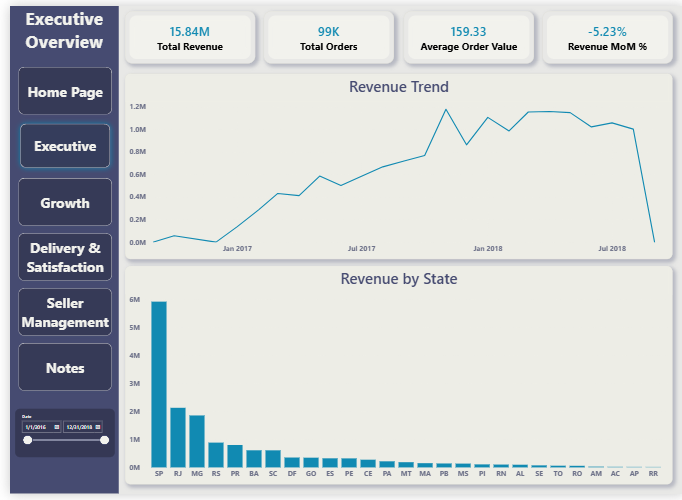

This screenshot's page, from the dashboard's own definition file:
{"tool":"powerbi","page":{"name":"Executive Overview","canvas":[1800,1300],"ordinal":1},"visuals":[{"type":"shape","title":"Executive Overview","box":[0,0,290,1300],"z":0},{"type":"cardVisual","fields":{"Data":["Measure Table.Total Revenue"]},"box":[307.5,12.5,347.2,140],"z":0,"group":"g1"},{"type":"group","id":"g1","title":"KPIs","box":[307.5,12.5,1460,140],"z":1000},{"type":"cardVisual","fields":{"Data":["Measure Table.Total Orders"]},"box":[678.7,12.5,347.2,140],"z":1000,"group":"g1"},{"type":"cardVisual","fields":{"Data":["Measure Table.Average Order Value"]},"box":[1049.9,12.5,347.2,140],"z":2000,"group":"g1"},{"type":"lineChart","title":"Revenue Trend ","fields":{"Category":["Date.Year-Month2","Date.Quarter"],"Y":["Measure Table.Total Revenue"]},"box":[307.5,180,1460,495],"z":2000},{"type":"cardVisual","fields":{"Data":["Measure Table.Revenue MoM %"]},"box":[1421.1,12.5,347.2,140],"z":3000,"group":"g1"},{"type":"clusteredColumnChart","title":"Revenue by State ","fields":{"Category":["customers.customer_state"],"Y":["Measure Table.Total Revenue"]},"box":[307.5,692.5,1460,582.5],"z":3000},{"type":"actionButton","title":"Home Page","box":[12.5,890,267,145],"z":3000,"group":"g2"},{"type":"actionButton","title":"Home Page","box":[12,152,267.5,145],"z":4000,"group":"g2"},{"type":"actionButton","title":"Home Page","box":[12,299.6,267.5,145],"z":5000,"group":"g2"},{"type":"slicer","fields":{"Values":["Date.Date"]},"box":[12,1074,266,130],"z":5000},{"type":"actionButton","title":"Home Page","box":[12,447.2,267.5,145],"z":6000,"group":"g2"},{"type":"actionButton","title":"Home Page","box":[12,594.8,267.5,145],"z":7000,"group":"g2"},{"type":"actionButton","title":"Home Page","box":[12.5,742.4,267,145],"z":8000,"group":"g2"},{"type":"group","id":"g2","title":"Group 1","box":[12,152,268,884],"z":8001}]}

Visuals, with their boxes in screenshot pixels (x1, y1, x2, y2), scaled from the page's 1800x1300 canvas onto the 682x500 screenshot:
"Executive Overview" shape: detection(0, 0, 110, 499)
cardVisual - Measure Table.Total Revenue: detection(117, 5, 248, 59)
"KPIs" group: detection(117, 5, 670, 59)
cardVisual - Measure Table.Total Orders: detection(257, 5, 389, 59)
cardVisual - Measure Table.Average Order Value: detection(398, 5, 529, 59)
"Revenue Trend " lineChart: detection(117, 69, 670, 260)
cardVisual - Measure Table.Revenue MoM %: detection(538, 5, 670, 59)
"Revenue by State " clusteredColumnChart: detection(117, 266, 670, 490)
"Home Page" actionButton: detection(5, 342, 106, 398)
"Home Page" actionButton: detection(5, 58, 106, 114)
"Home Page" actionButton: detection(5, 115, 106, 171)
slicer - Date.Date: detection(5, 413, 105, 463)
"Home Page" actionButton: detection(5, 172, 106, 228)
"Home Page" actionButton: detection(5, 229, 106, 285)
"Home Page" actionButton: detection(5, 286, 106, 341)
"Group 1" group: detection(5, 58, 106, 398)
